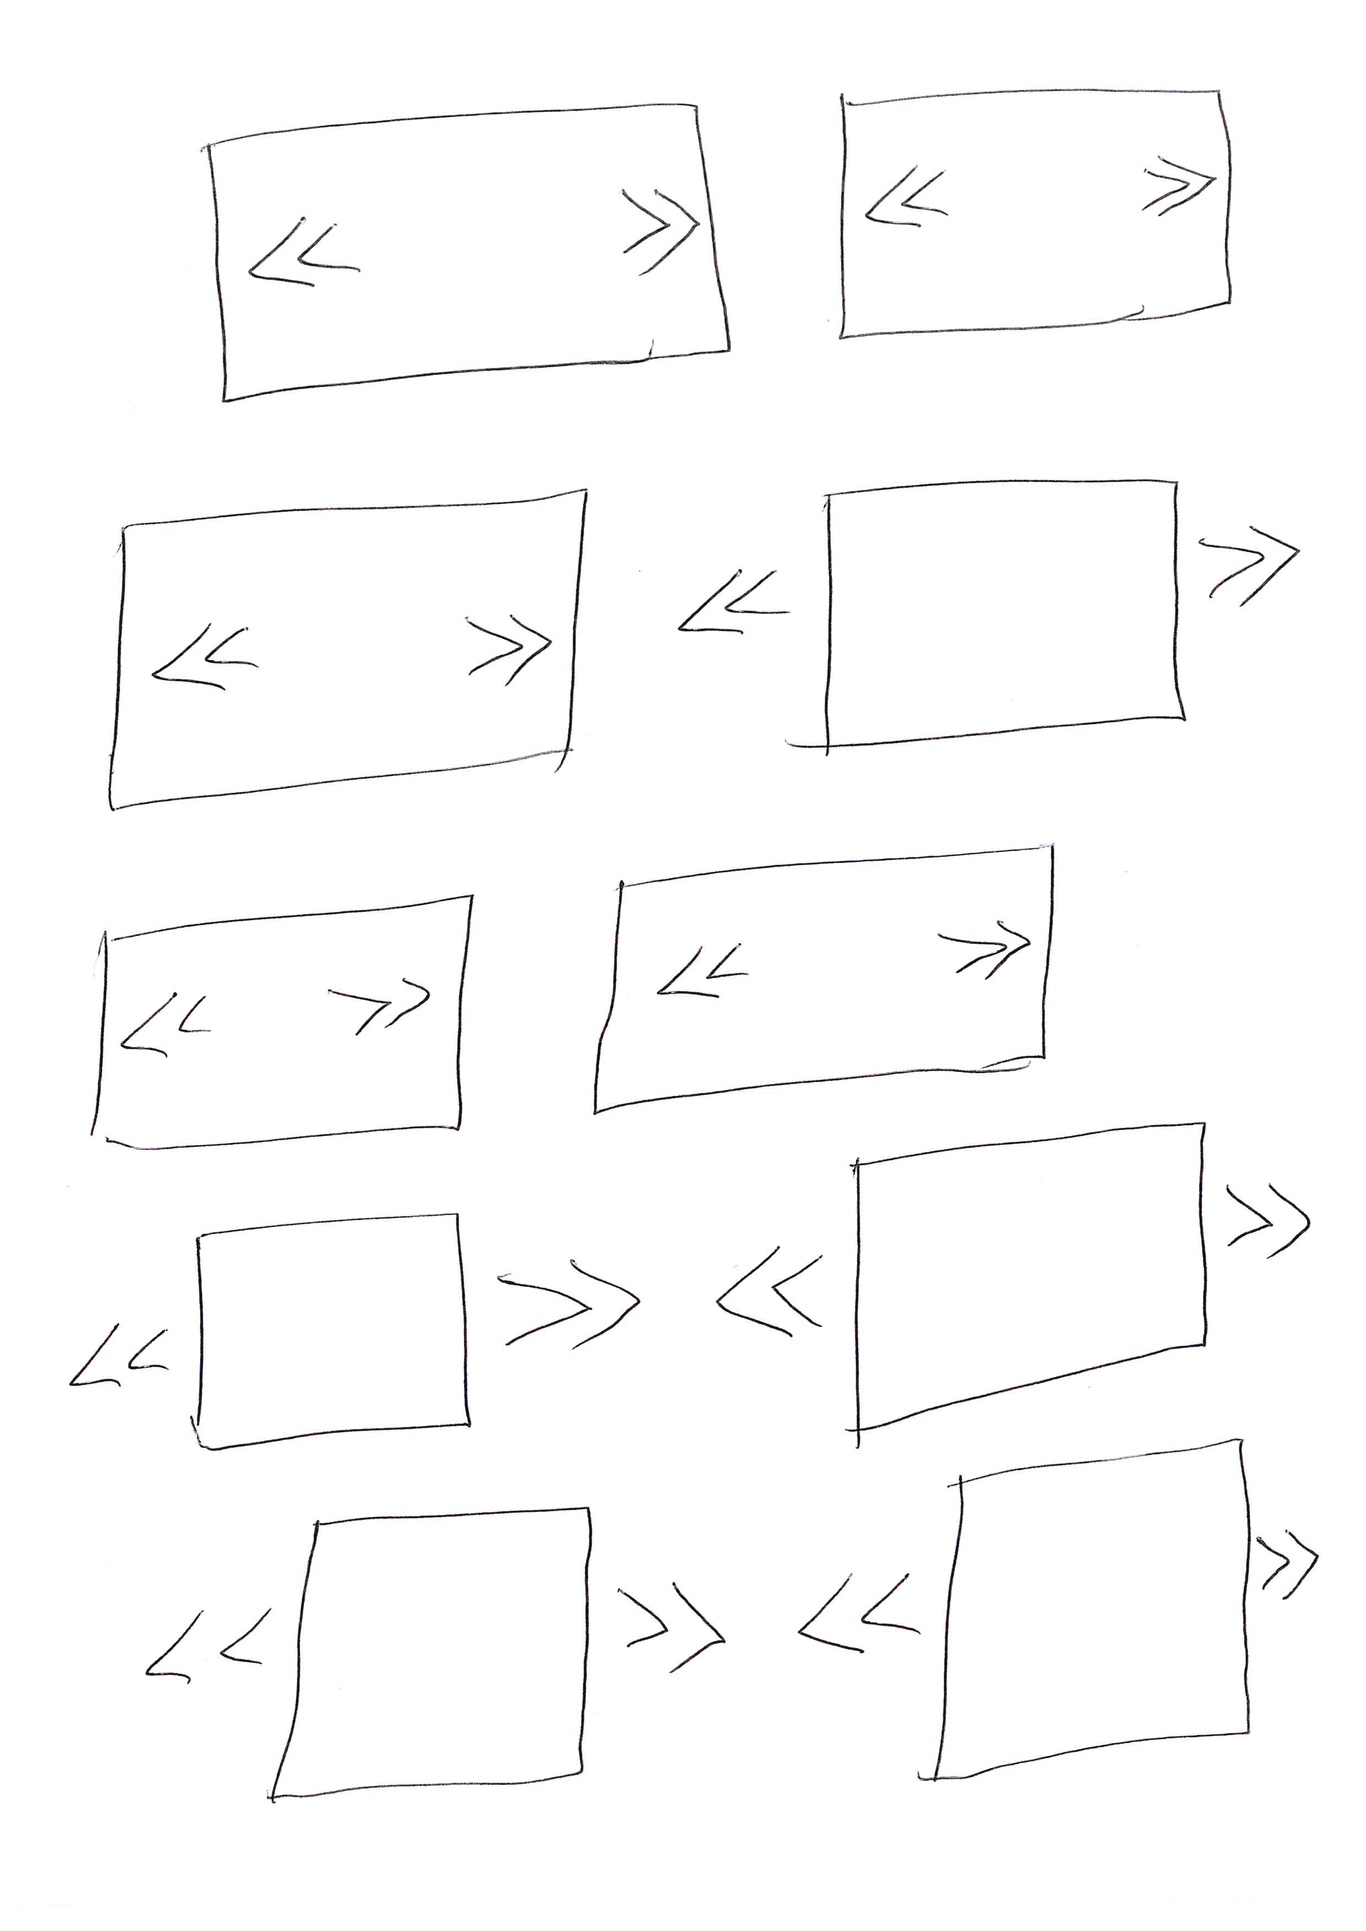Carousel: (713, 1115, 1316, 1442), (791, 1436, 1326, 1788), (140, 1504, 730, 1807), (677, 473, 1307, 754), (203, 98, 735, 410), (103, 486, 591, 815), (67, 1209, 646, 1450), (587, 841, 1060, 1119), (831, 84, 1240, 345), (89, 893, 478, 1153)
